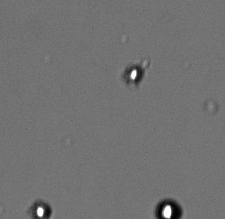Living Cell: (155, 197, 182, 217), (125, 64, 143, 84), (30, 201, 50, 217)
